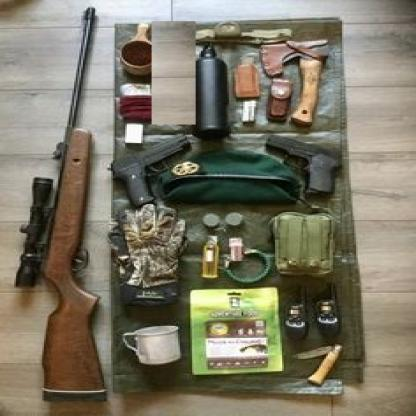Gun: (10, 5, 108, 397)
Knife: (287, 344, 346, 385)
Pistol: (106, 133, 191, 208), (265, 132, 344, 198)
